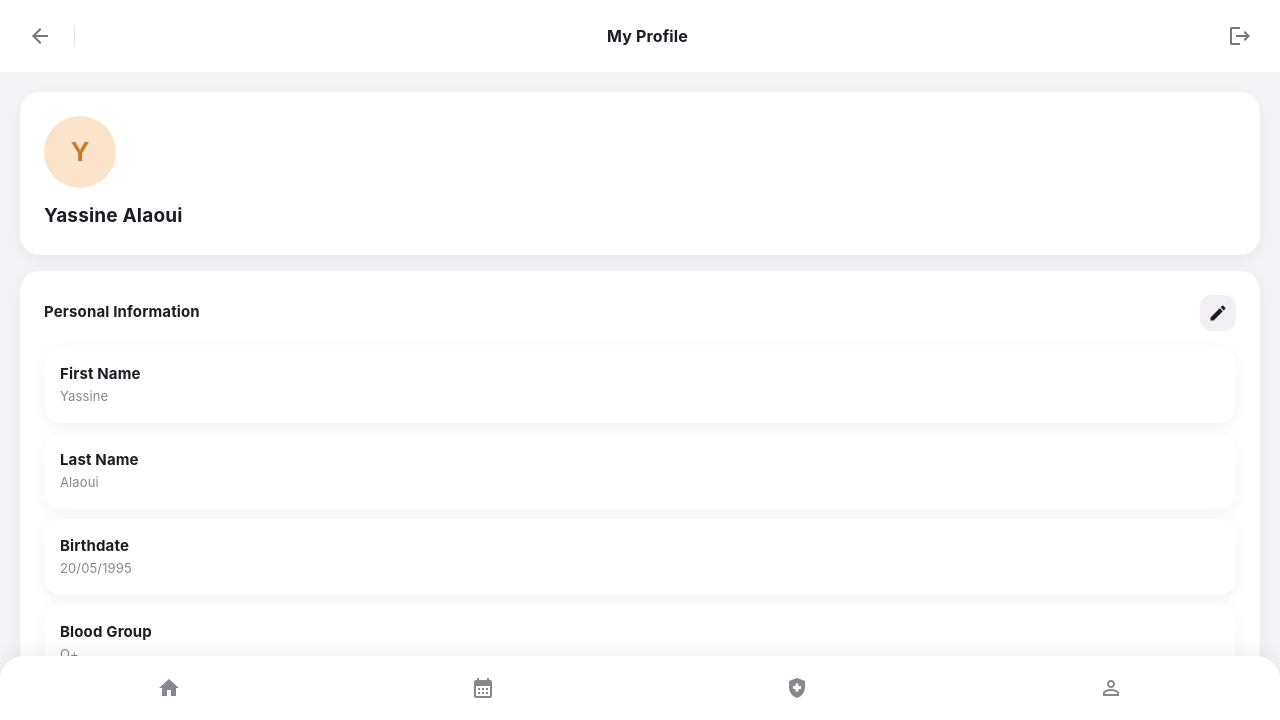
Scenario: ProfileComponent - save profile (issue #204) › shows an error message and stays in edit mode on failure
This screenshot has width=1280, height=720.
Expected: the text "Yassine" is shown, top-left (60, 388), bottom-right (108, 404)
Click the button with test id "EditIcon": (1218, 312) top-left (1200, 294), bottom-right (1236, 330)
(page scrolled)
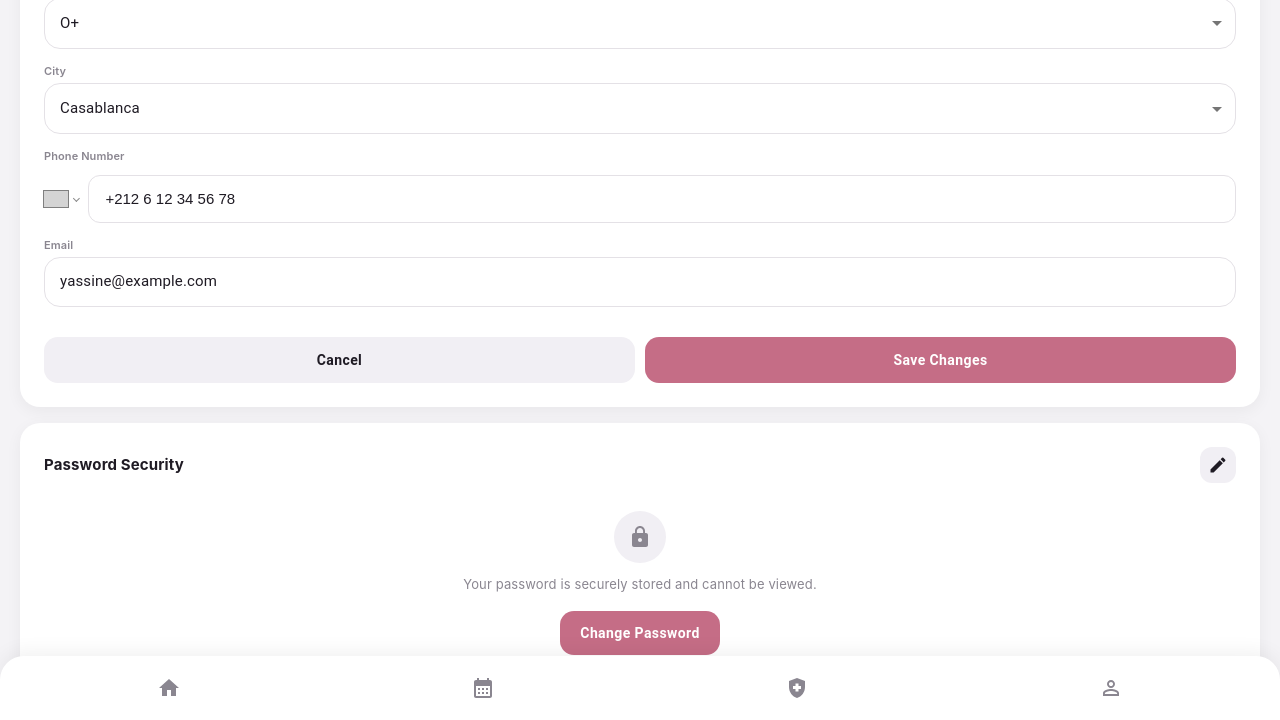
Click the button "Save Changes": (940, 360) top-left (645, 337), bottom-right (1236, 383)
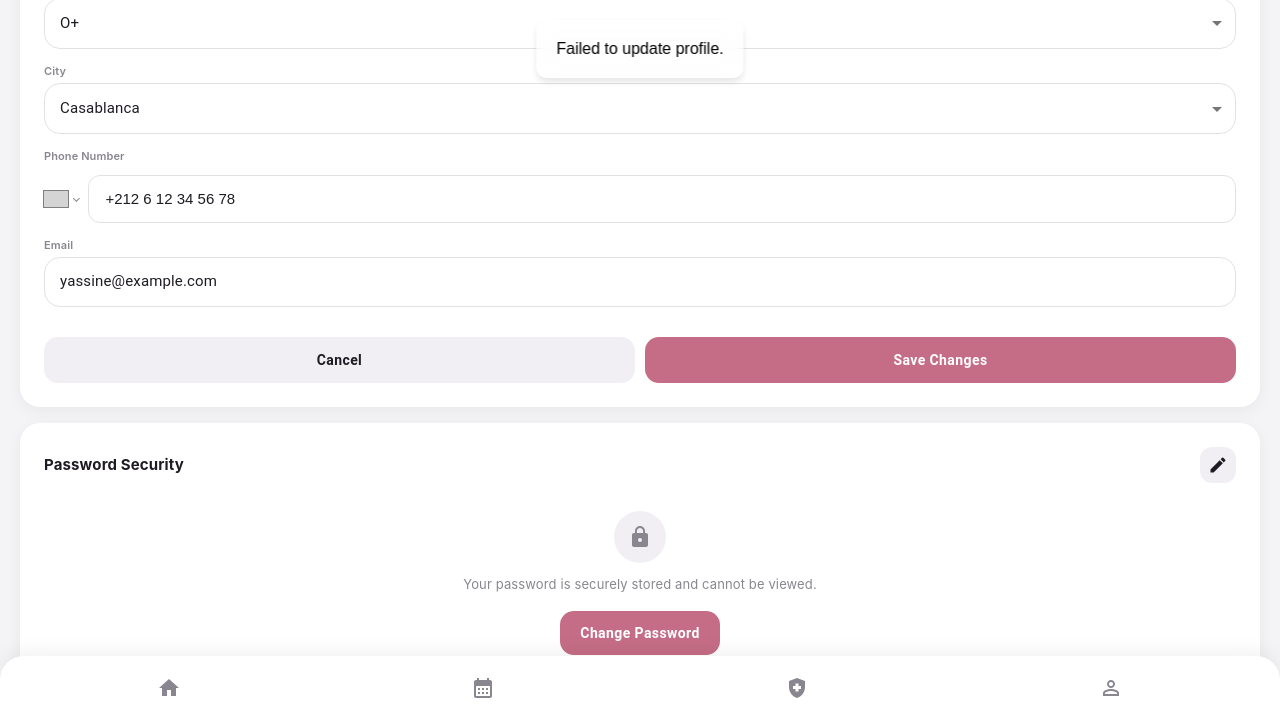
Expected: the button "Save Changes" is shown, top-left (645, 337), bottom-right (1236, 383)
Expected: the text "Failed to update profile." is shown, top-left (536, 20), bottom-right (744, 78)
